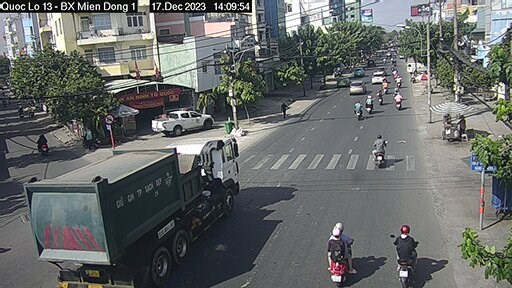car: (153, 110, 212, 136), (348, 79, 365, 98), (371, 71, 386, 82)
motorbike: (323, 218, 355, 282), (394, 225, 418, 281), (373, 137, 392, 167), (391, 94, 407, 114), (35, 134, 48, 153), (353, 101, 363, 121), (364, 92, 373, 112), (378, 91, 384, 104)
truck: (37, 145, 240, 285)
